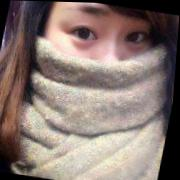WRONG: (35, 2, 168, 131)
